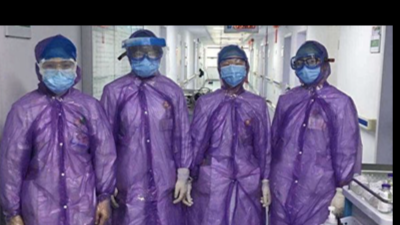with_mask: (37, 58, 77, 93), (127, 45, 161, 77), (292, 55, 322, 83), (219, 57, 246, 86)
